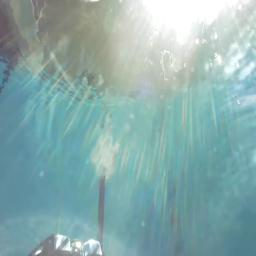front: (26, 233, 103, 256)
